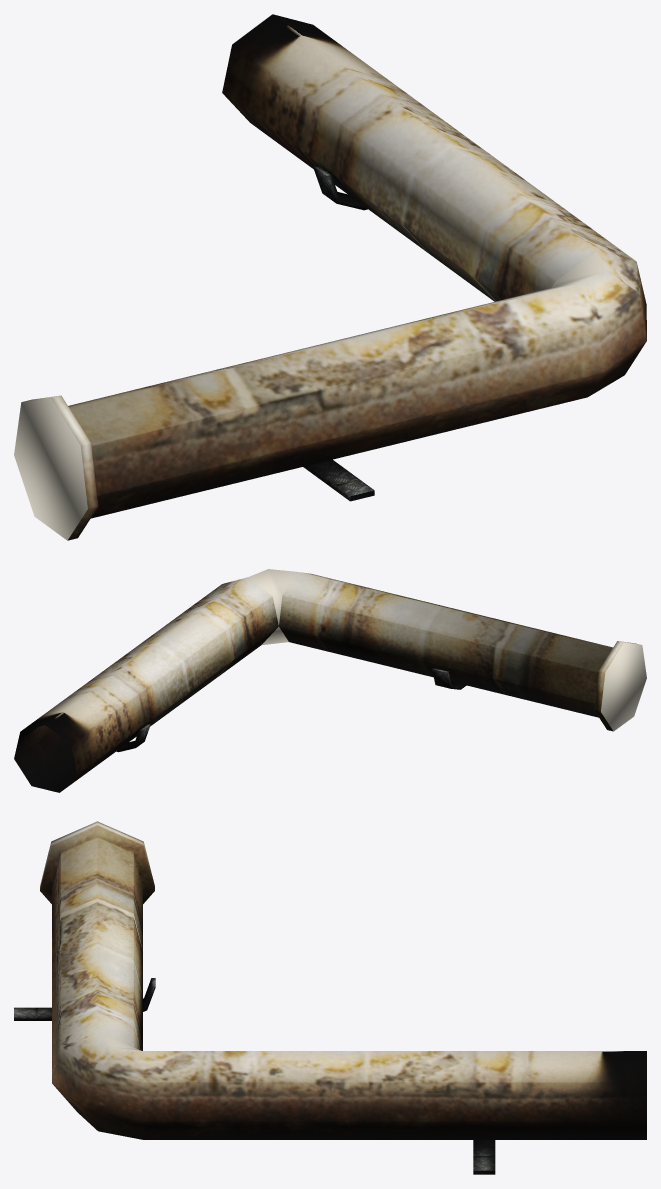
The model's file is Pipe02.fbx.
3 views of the same model, one above another, from view 1: azimuth 30°, elevation 25°; view 2: azimuth 150°, elevation 25°; view 3: azimuth 270°, elevation 25° (orthographic). The views are drawn at different scales.
Parts seen in each view (by area): view 1: Circle.016; view 2: Circle.016; view 3: Circle.016.
Part boxes in pixels (left/top/right/bottom): Circle.016: left=14, top=14, right=646, bottom=540; Circle.016: left=14, top=569, right=646, bottom=792; Circle.016: left=14, top=821, right=646, bottom=1174.
Size of the model in its own units: 213 by 39.35 by 222.
